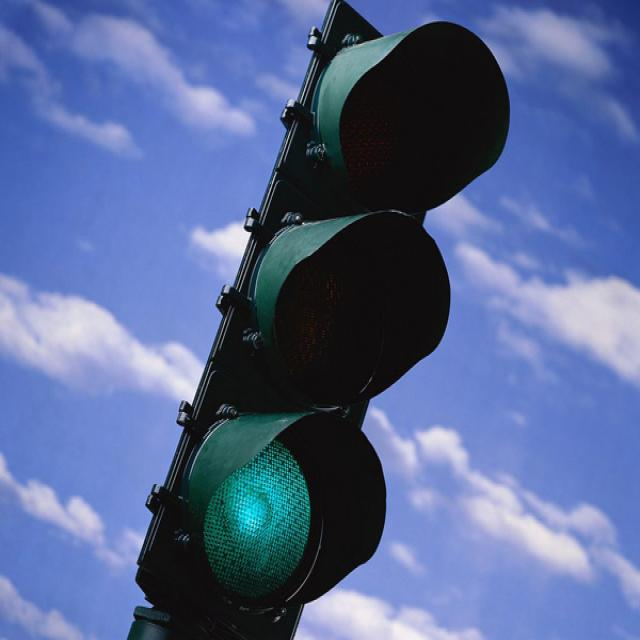green: (166, 392, 365, 627)
